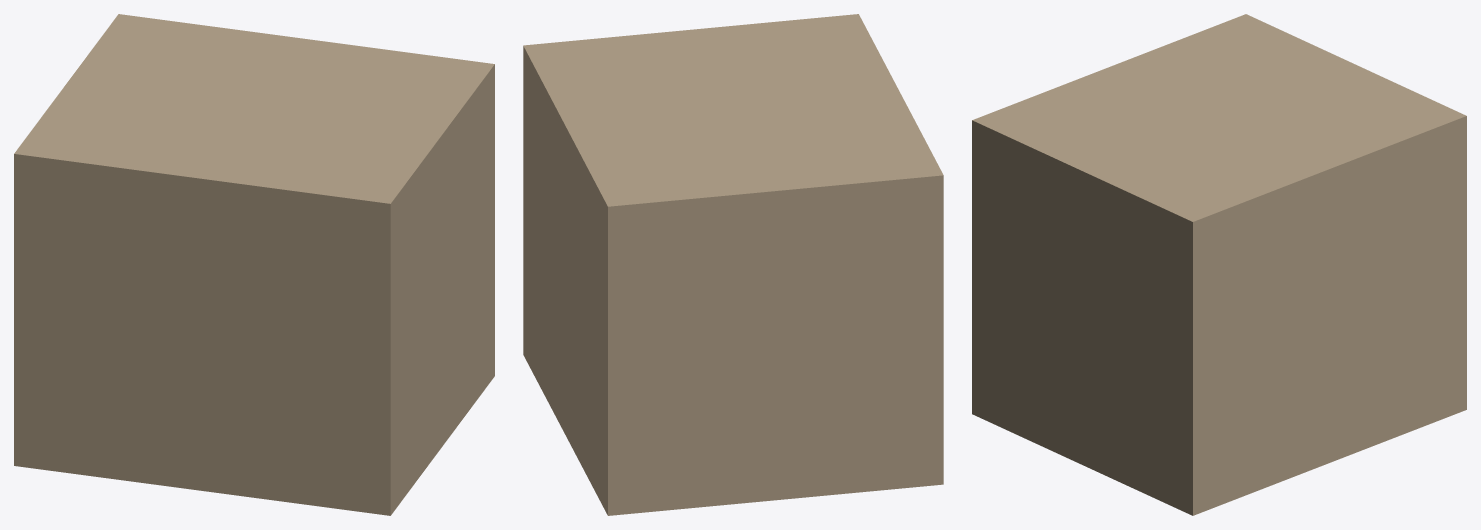
Rendered from bld_106339003.dae.
3 renders of one model, left to right at view 1: azimuth 30°, elevation 25°; view 2: azimuth 150°, elevation 25°; view 3: azimuth 270°, elevation 25°, orthographic. The views are drawn at different scales.
Visible parts, largest first — view 1: bld_106339003; view 2: bld_106339003; view 3: bld_106339003.
Boxes of the visible parts, bbox=[...] form: bld_106339003: bbox=[14, 14, 494, 515]; bld_106339003: bbox=[523, 14, 943, 515]; bld_106339003: bbox=[972, 14, 1466, 515].
Size of the model in its own units: 12.14 by 12.2 by 8.
